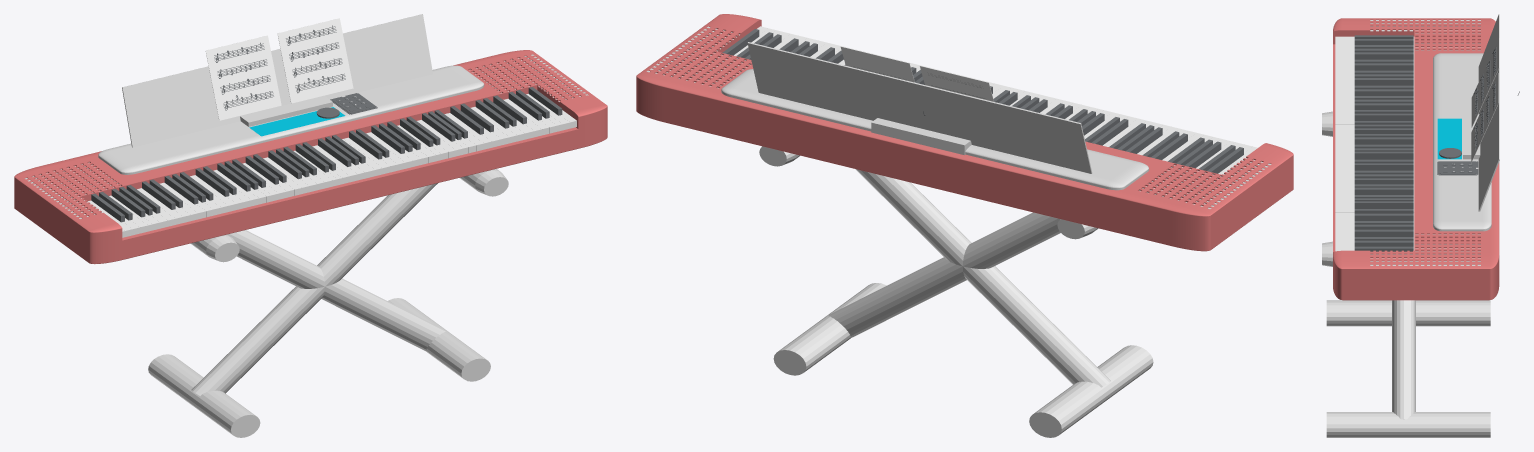
The model's file is piano.fbx.
3 renders of one model, left to right at view 1: azimuth 30°, elevation 25°; view 2: azimuth 150°, elevation 25°; view 3: azimuth 270°, elevation 25°, orthographic. The views are drawn at different scales.
Parts seen in each view (by area): view 1: obj_0; view 2: obj_0; view 3: obj_0.
Part boxes in pixels (<box>): obj_0: <box>14,14,607,437</box>; obj_0: <box>636,14,1293,437</box>; obj_0: <box>1322,14,1519,437</box>.
Size of the model in its own units: 2460 by 1414 by 821.
